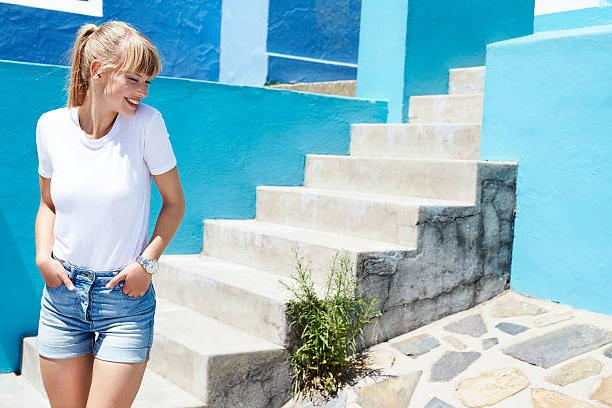Shorts: (35, 258, 159, 365)
short sleeve shirt: (36, 99, 179, 273)
